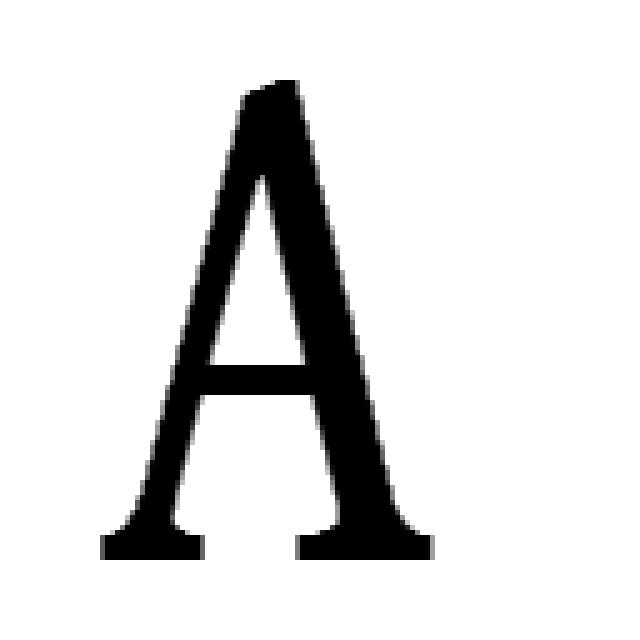A: (90, 70, 440, 565)
